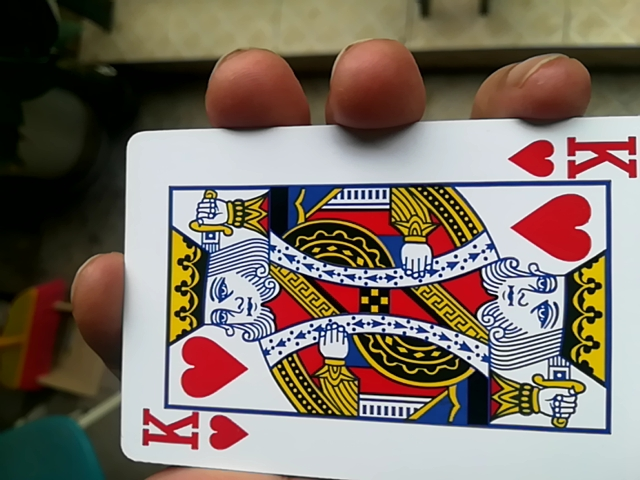hx k: (113, 126, 632, 480)
